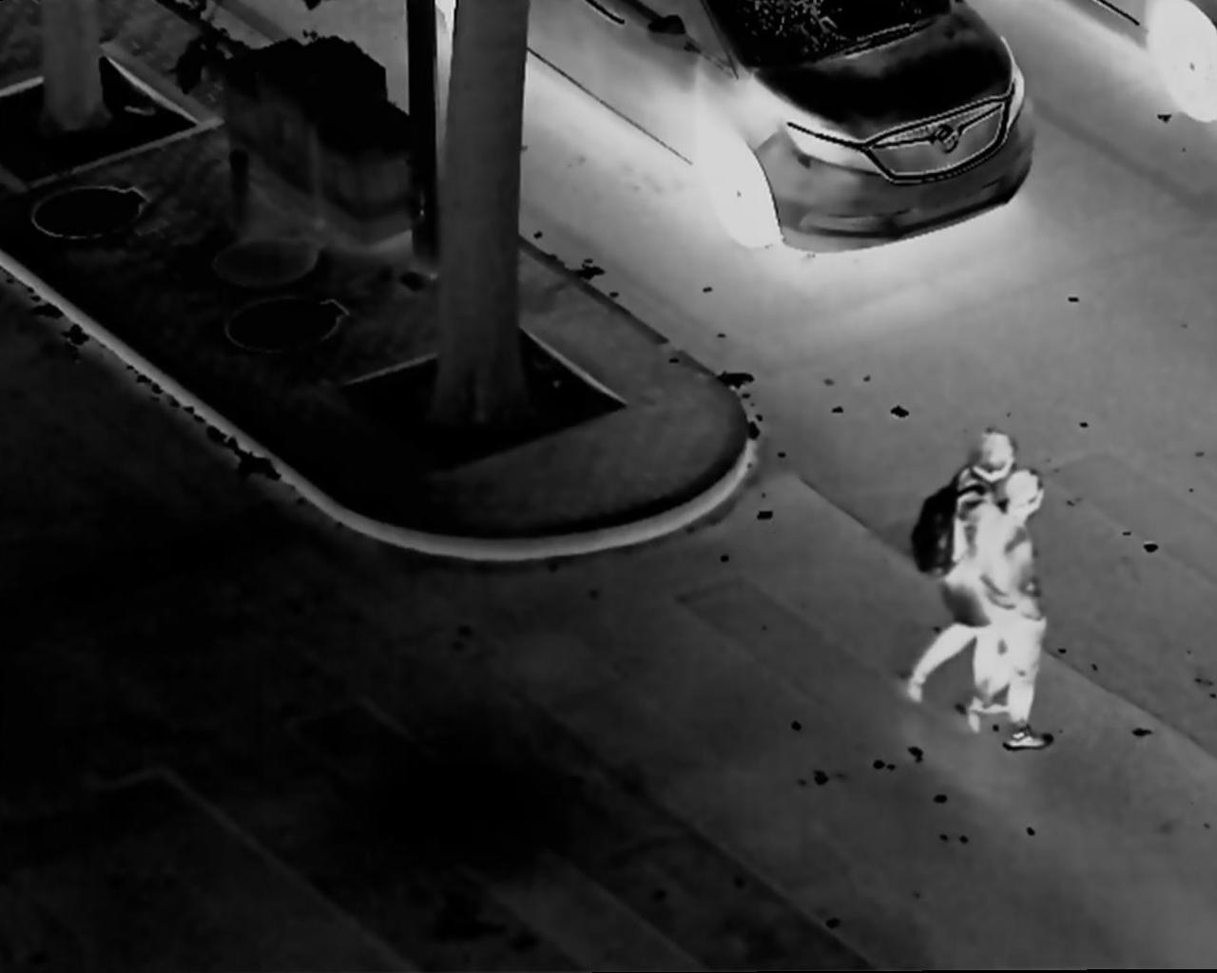person: (904, 425, 1014, 709), (982, 467, 1066, 754)
